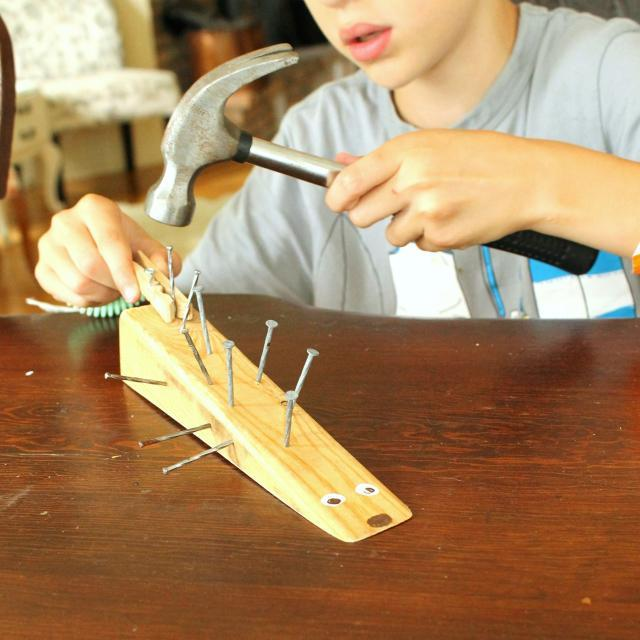hammer: (138, 30, 604, 284)
